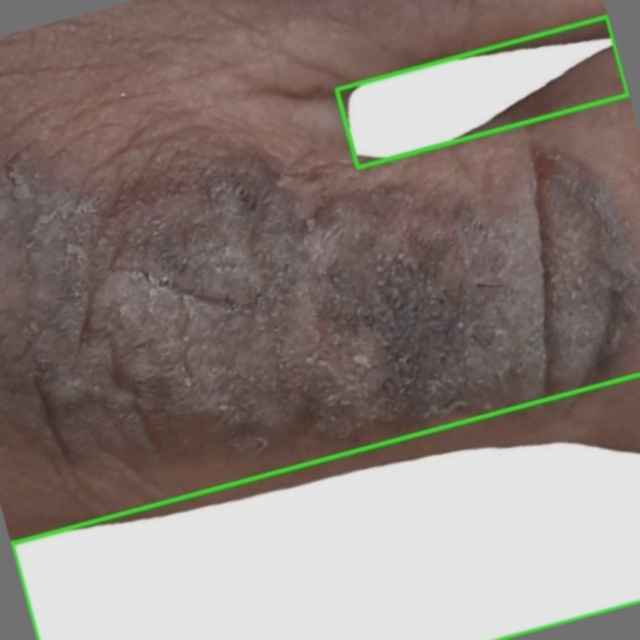Contact Dermatitis: (11, 374, 639, 639), (336, 16, 628, 167)
